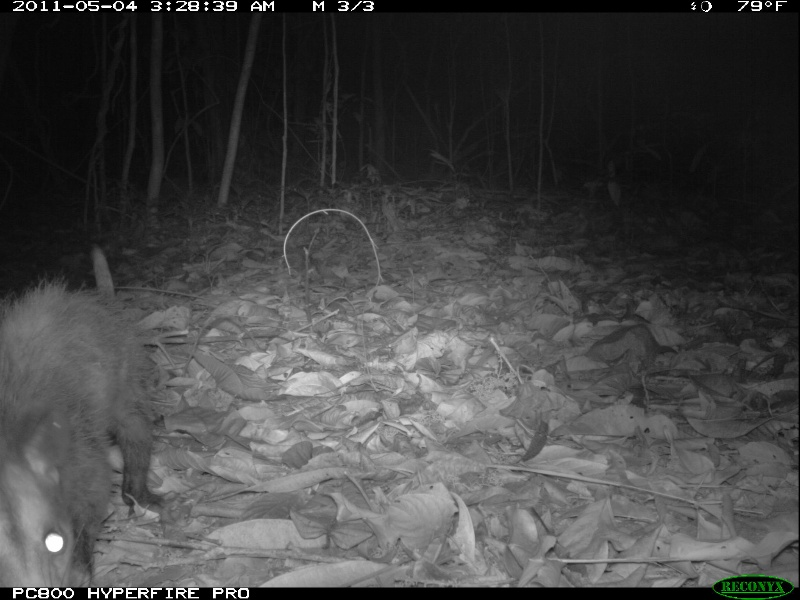opossum: (1, 235, 163, 587)
